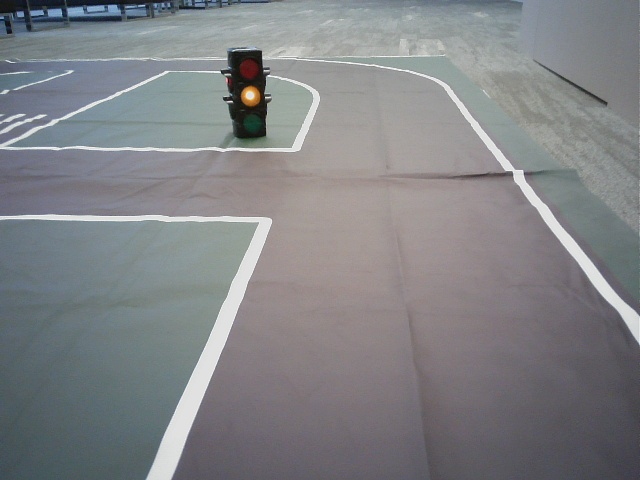yellow: (237, 51, 263, 136)
